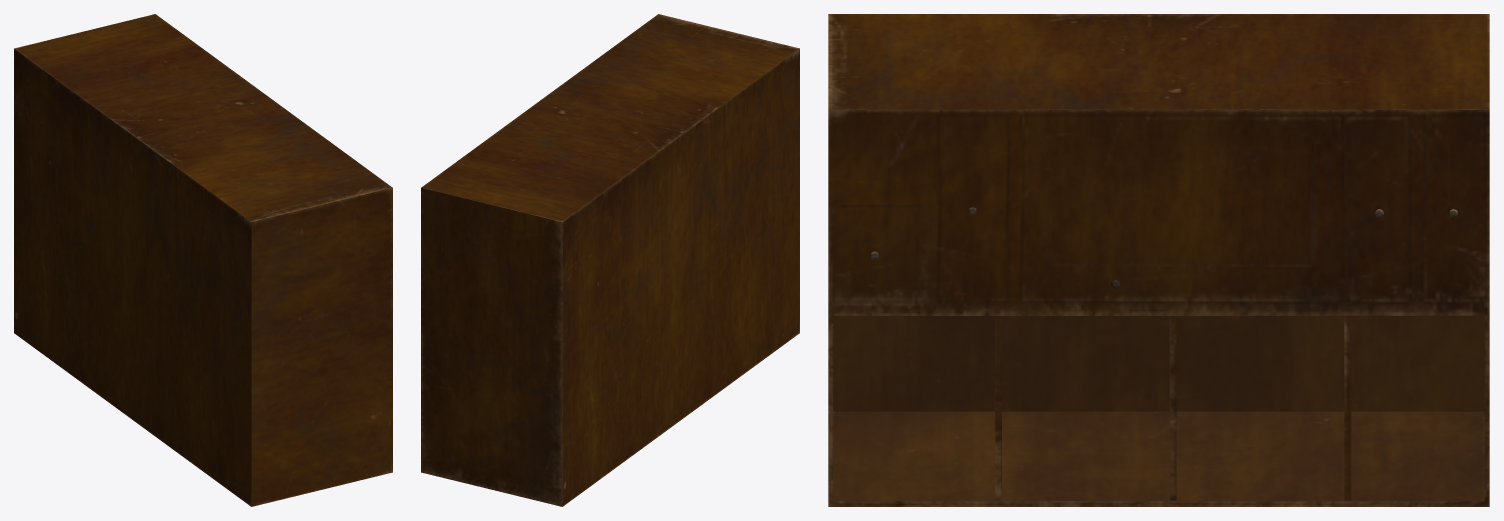
File: wardrobe---low-poly-84e8fe.glb
The picture shows the model from 3 angles, left to right: view 1: azimuth 30°, elevation 25°; view 2: azimuth 150°, elevation 25°; view 3: azimuth 270°, elevation 25°; orthographic projection. The views are drawn at different scales.
Parts seen in each view (by area): view 1: PropMesh; view 2: PropMesh; view 3: PropMesh.
Boxes of the visible parts, x1=… form: PropMesh: x1=14, y1=14, x2=392, y2=506; PropMesh: x1=421, y1=14, x2=799, y2=506; PropMesh: x1=828, y1=14, x2=1489, y2=506.
Bounding box in the file's own units: 1.18 × 2.2 × 3.32.
1 material, 1 textured.
